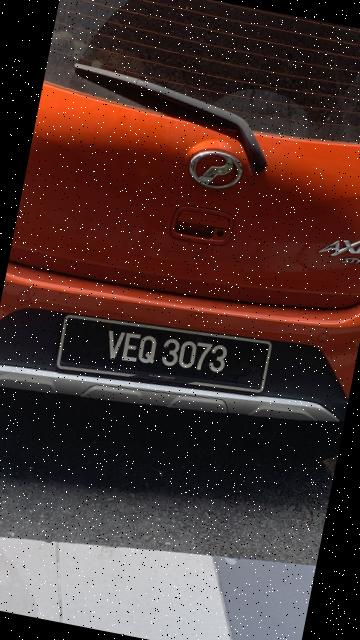License_Plate: (66, 308, 257, 391)
